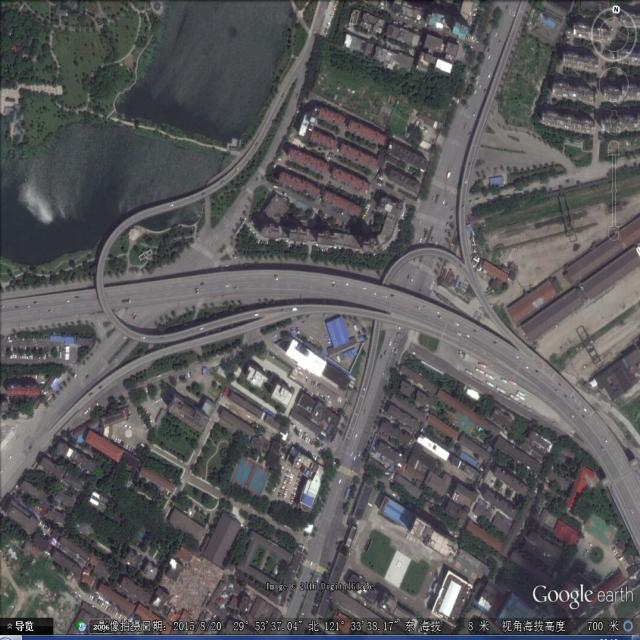overpass: (91, 61, 534, 442)
